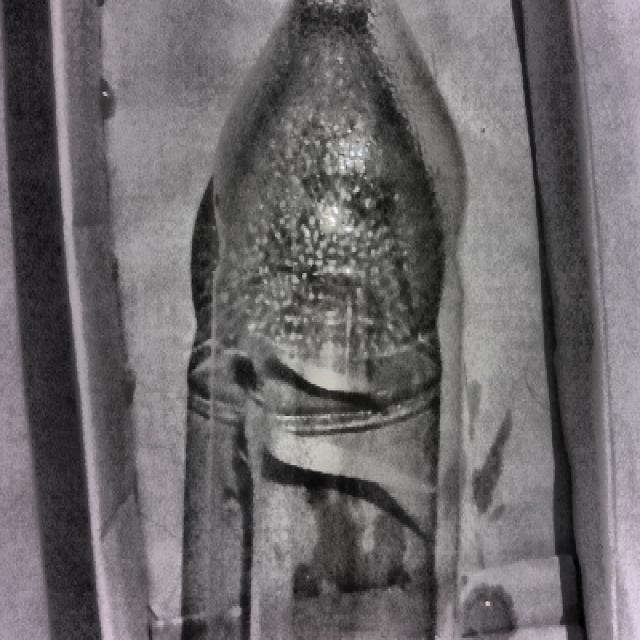plastic: (168, 0, 483, 640)
